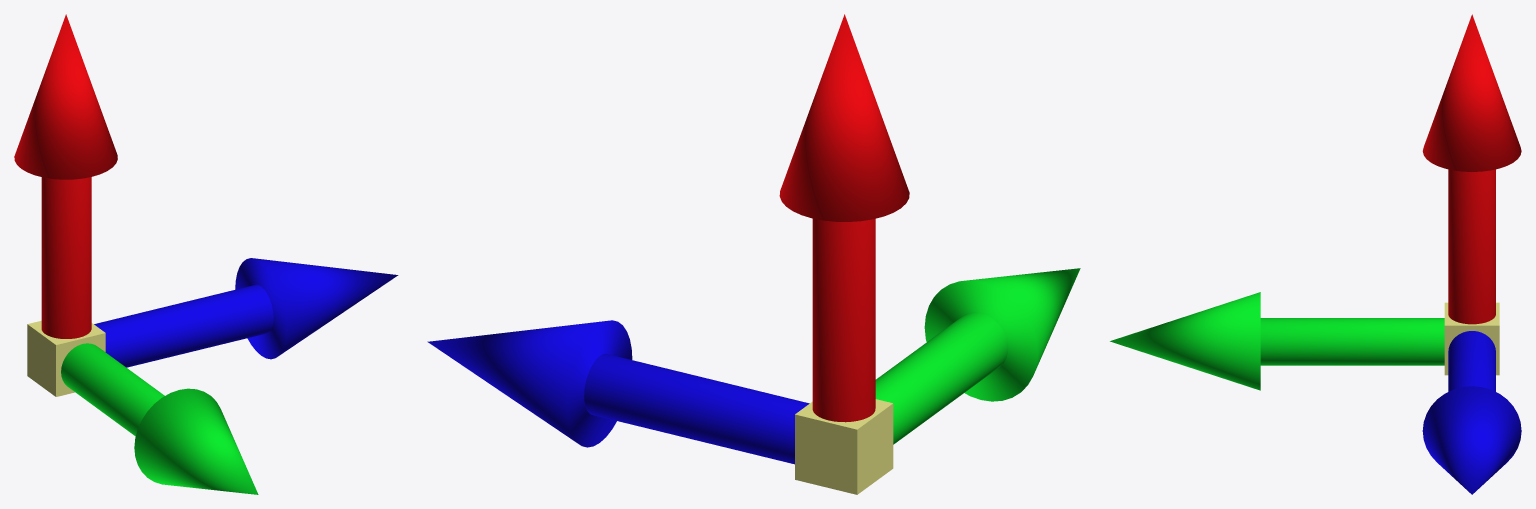
The picture shows the model from 3 angles, left to right: view 1: azimuth 30°, elevation 25°; view 2: azimuth 150°, elevation 25°; view 3: azimuth 270°, elevation 25°; orthographic projection. The views are drawn at different scales.
Visible parts, largest first — view 1: conus, top_z, x, y, top_x, z, center; view 2: conus, x, y, top_x, top_z, z, center; view 3: z, conus, top_z, top_x, y, x, center.
Part boxes in pixels (bbox=[...]): conus: bbox=[14, 14, 117, 179]; top_z: bbox=[134, 388, 258, 494]; x: bbox=[94, 284, 273, 367]; y: bbox=[41, 177, 91, 338]; top_x: bbox=[235, 258, 398, 359]; z: bbox=[61, 343, 164, 436]; center: bbox=[27, 320, 105, 396]; conus: bbox=[779, 14, 909, 221]; x: bbox=[584, 353, 809, 464]; y: bbox=[812, 218, 875, 422]; top_x: bbox=[427, 320, 632, 447]; top_z: bbox=[924, 268, 1080, 401]; z: bbox=[875, 312, 1008, 444]; center: bbox=[795, 399, 893, 494]; z: bbox=[1260, 318, 1444, 365]; conus: bbox=[1422, 14, 1521, 171]; top_z: bbox=[1110, 292, 1260, 390]; top_x: bbox=[1422, 386, 1521, 494]; y: bbox=[1448, 169, 1495, 324]; x: bbox=[1448, 331, 1495, 391]; center: bbox=[1444, 302, 1499, 375].
Size of the model in its own units: 3.3 by 3.26 by 3.28.
